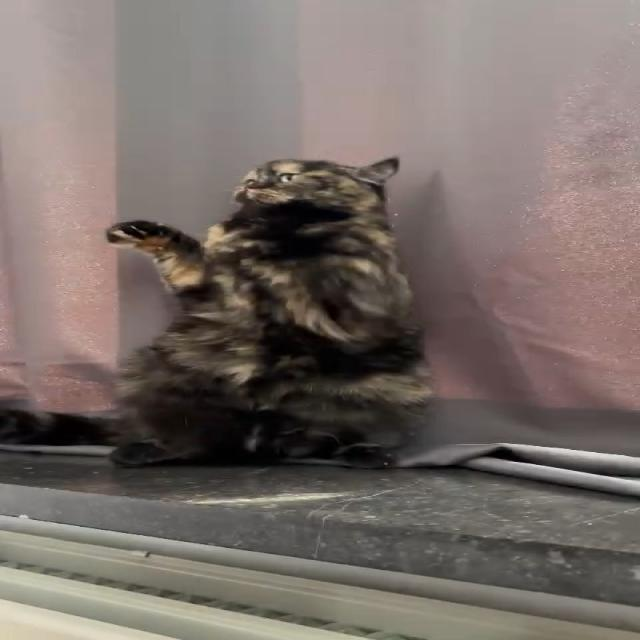authorized: (1, 154, 436, 469)
